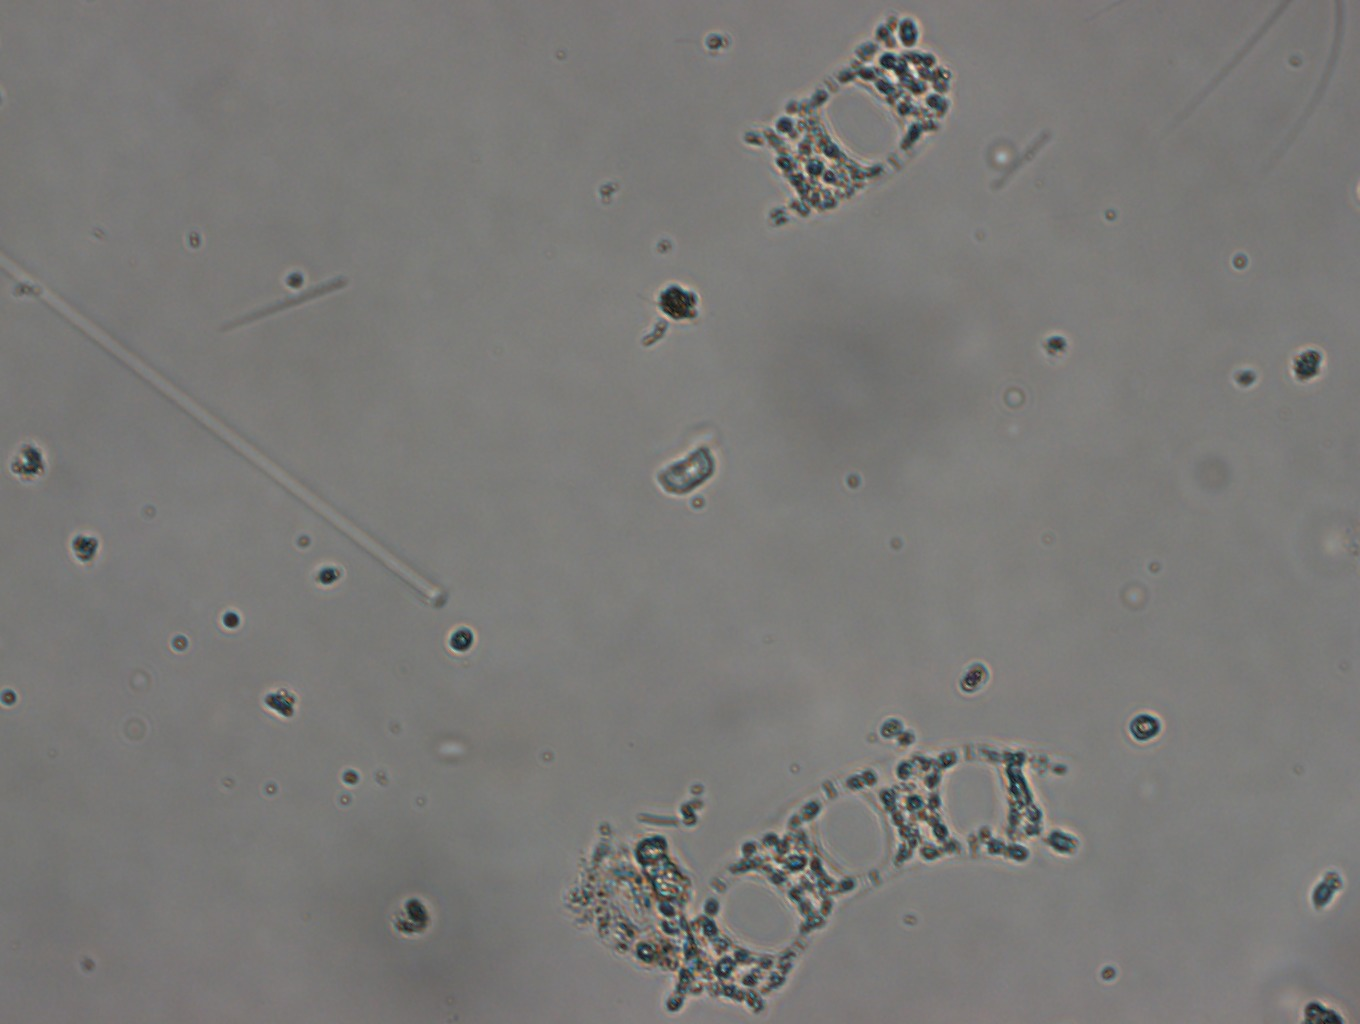eucampia: (667, 746, 1094, 1005), (750, 11, 939, 225)
